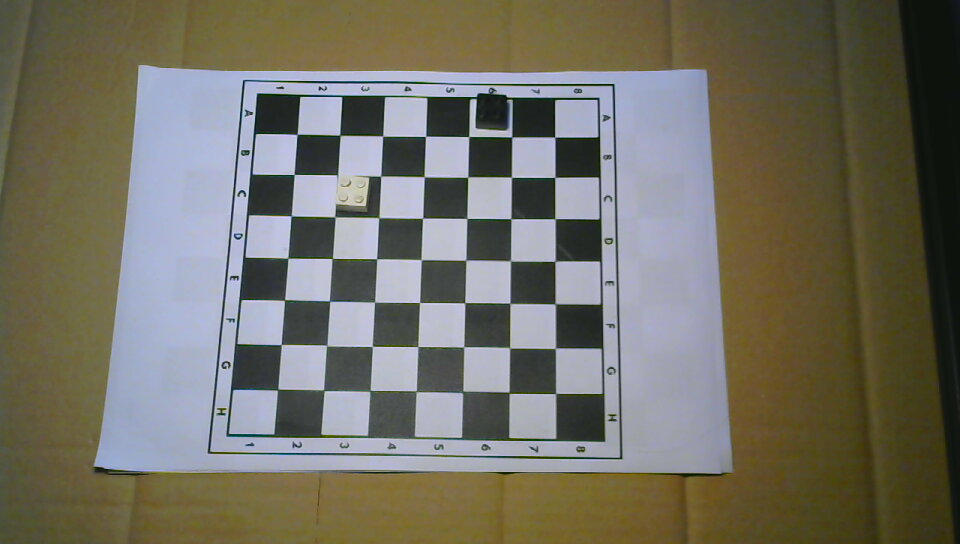bp: (474, 93, 509, 132)
wp: (334, 174, 371, 214)
